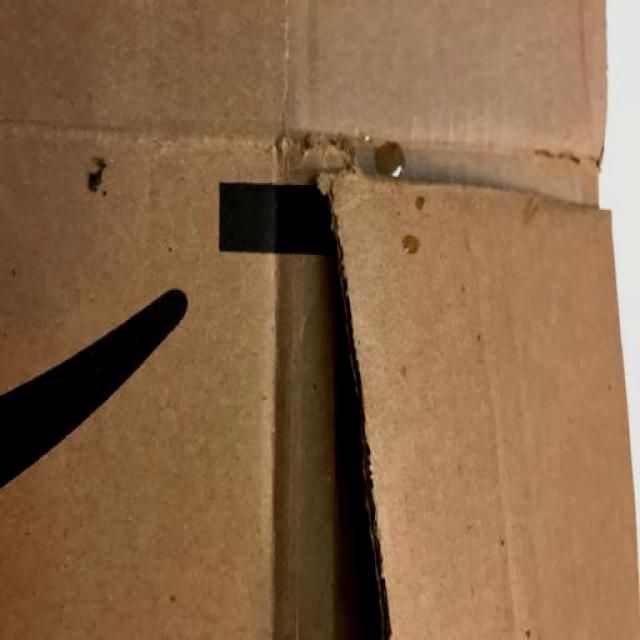inorganic: (4, 11, 606, 630)
